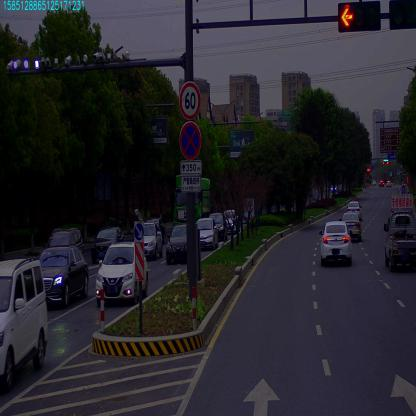traffic-light: (337, 3, 382, 32)
